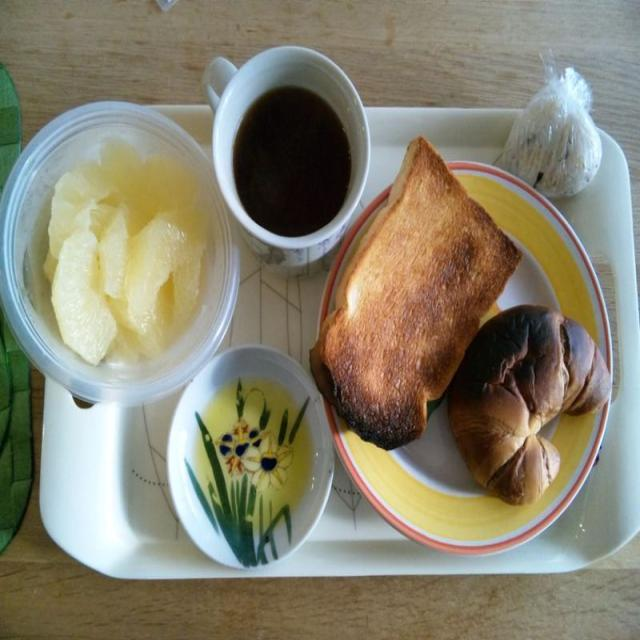Croissant: (438, 302, 626, 518)
